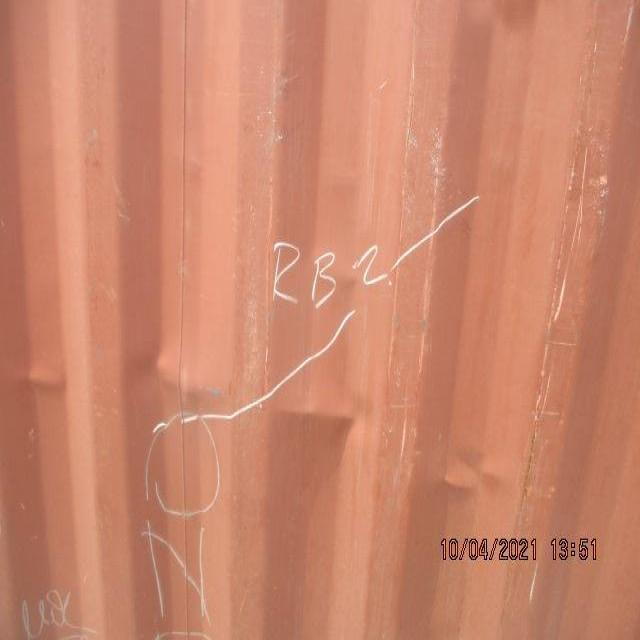Dent: (115, 324, 600, 524)
